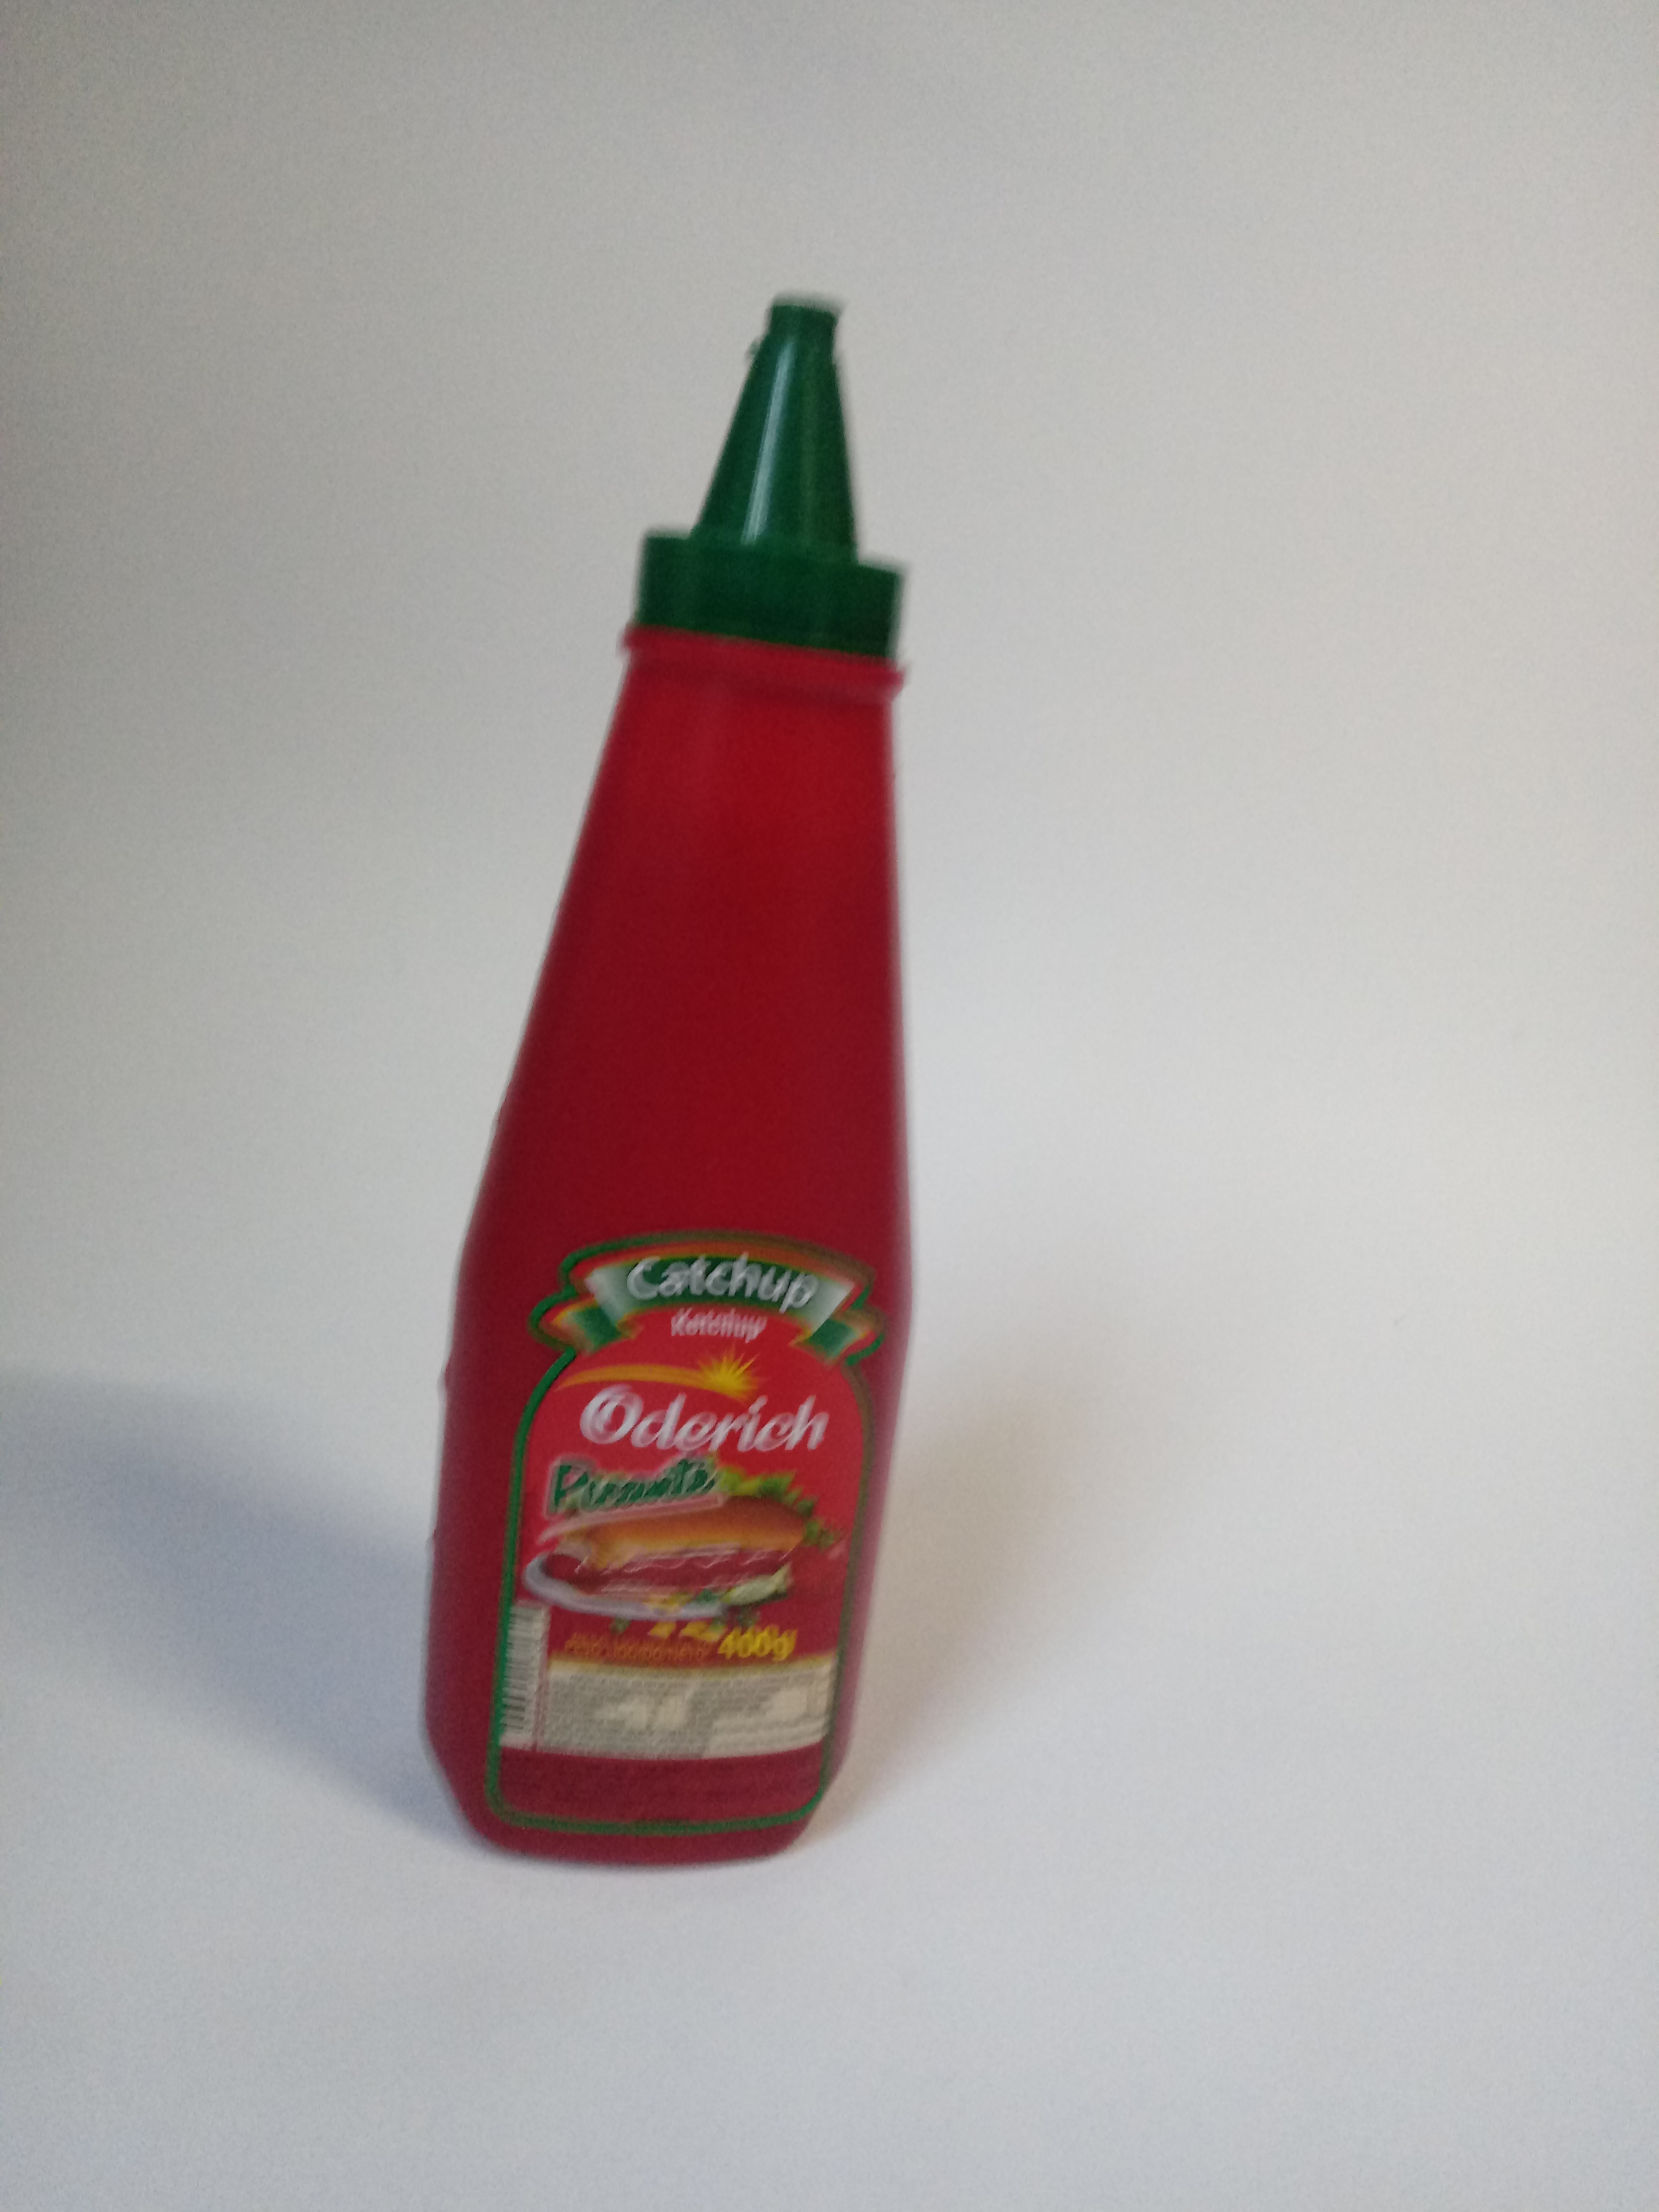catchup-oderich: (413, 256, 934, 1909)
